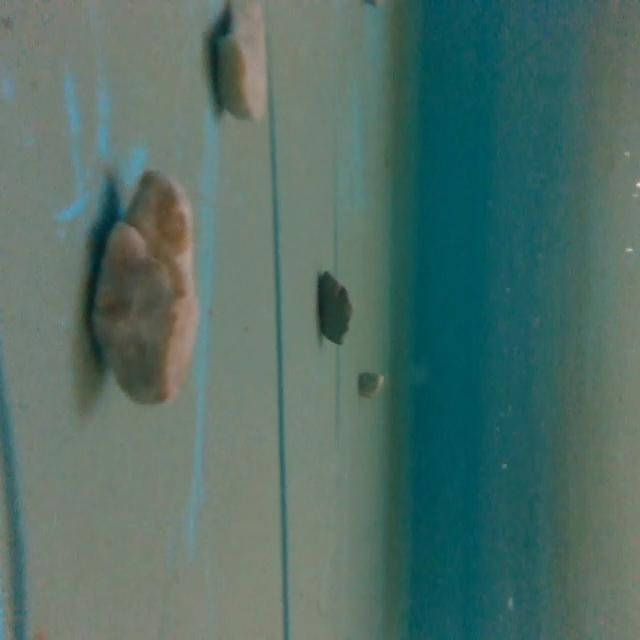rock: (84, 158, 208, 414), (210, 0, 274, 128), (316, 263, 357, 349), (355, 367, 391, 402)
